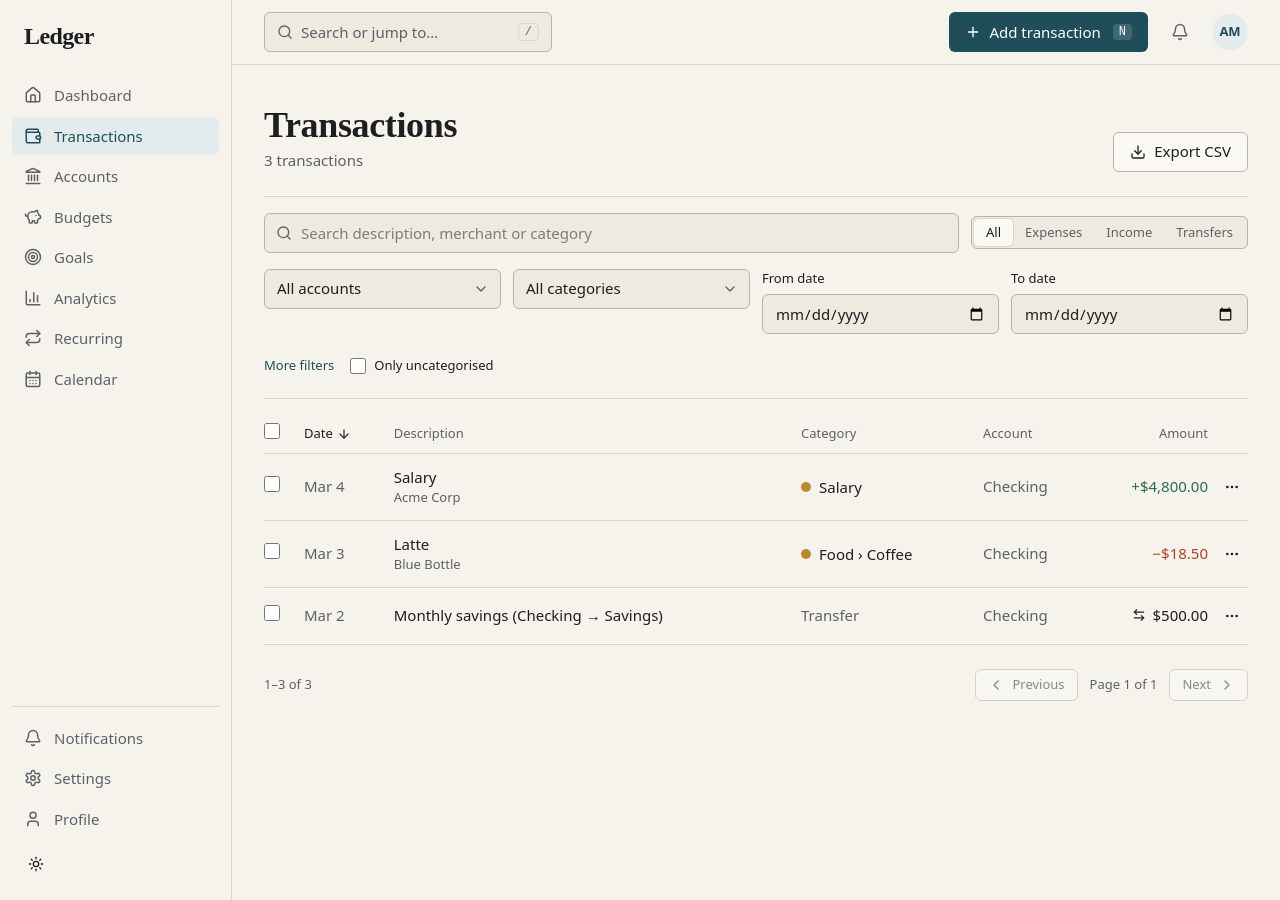
transactions list › deletes after confirmation and removes the row immediately
The width and height of the screenshot is (1280, 900).
Click the button named "Actions for Latte": point(1232, 554) x1=1216 y1=538 x2=1248 y2=570
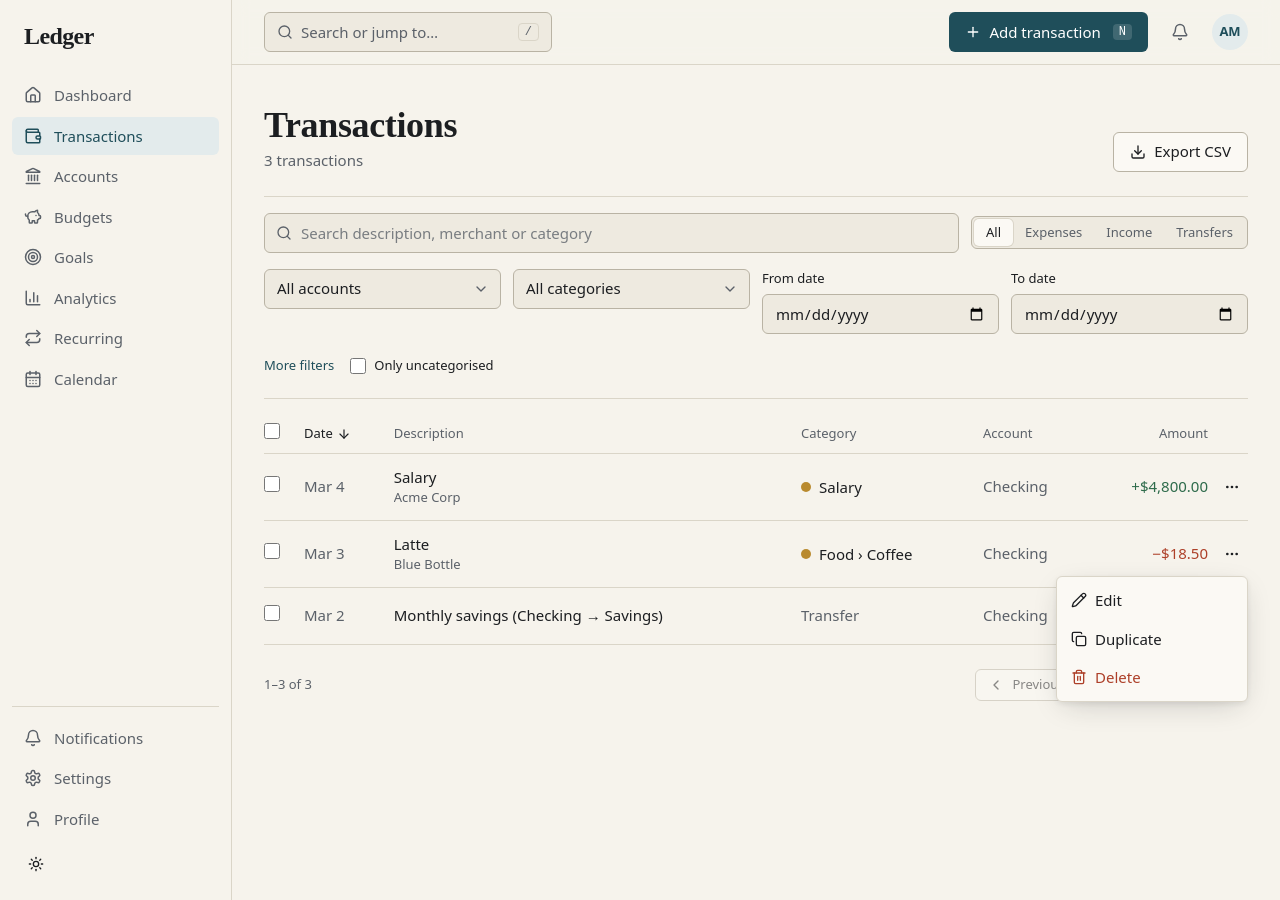
Click the menu item "Delete": point(1106, 677) x1=1071 y1=667 x2=1141 y2=687
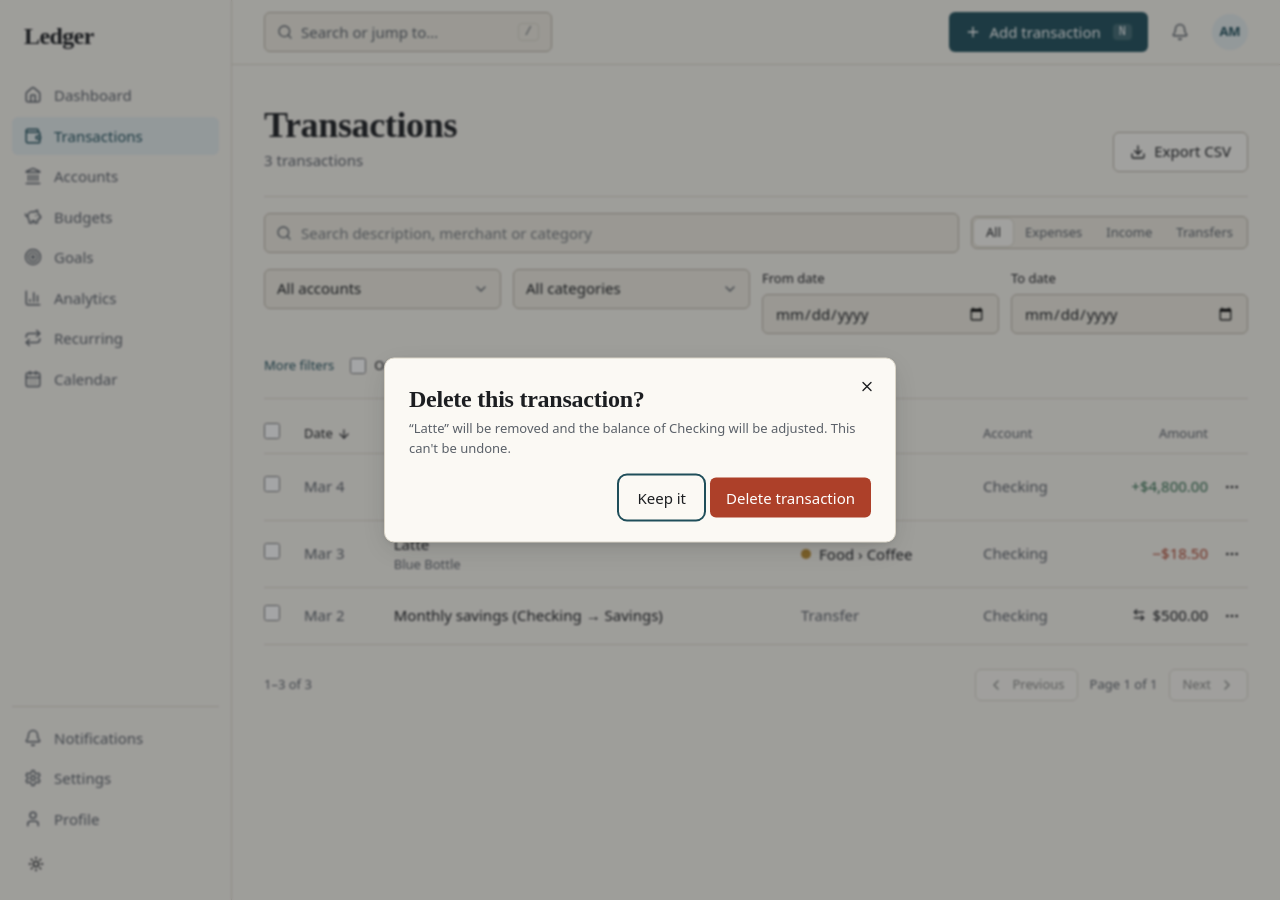
Click the button "Delete transaction": point(790, 498) x1=710 y1=478 x2=871 y2=518
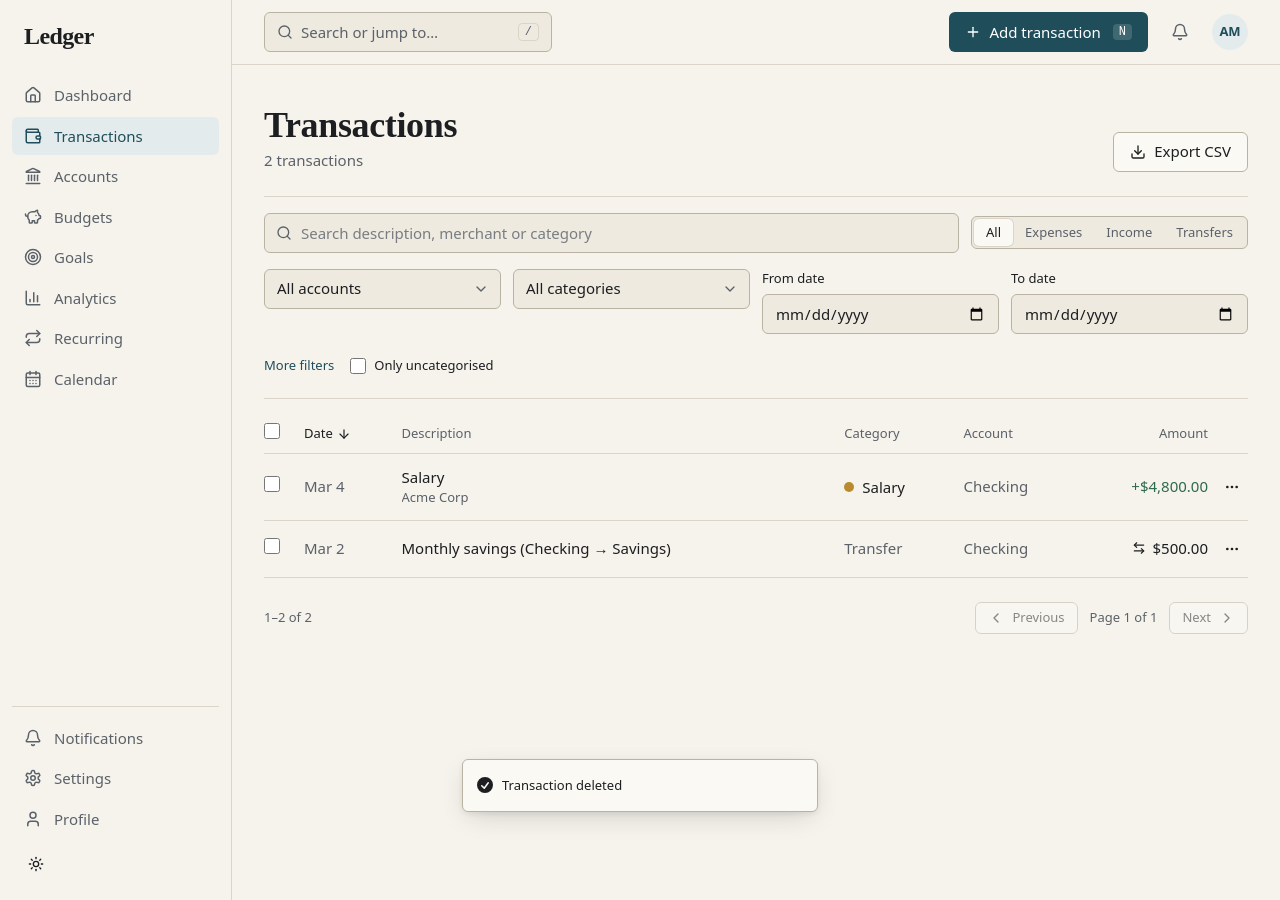
Now the link "Latte" is gone
Now the text "Transaction deleted" is shown, box x1=502 y1=776 x2=622 y2=795
